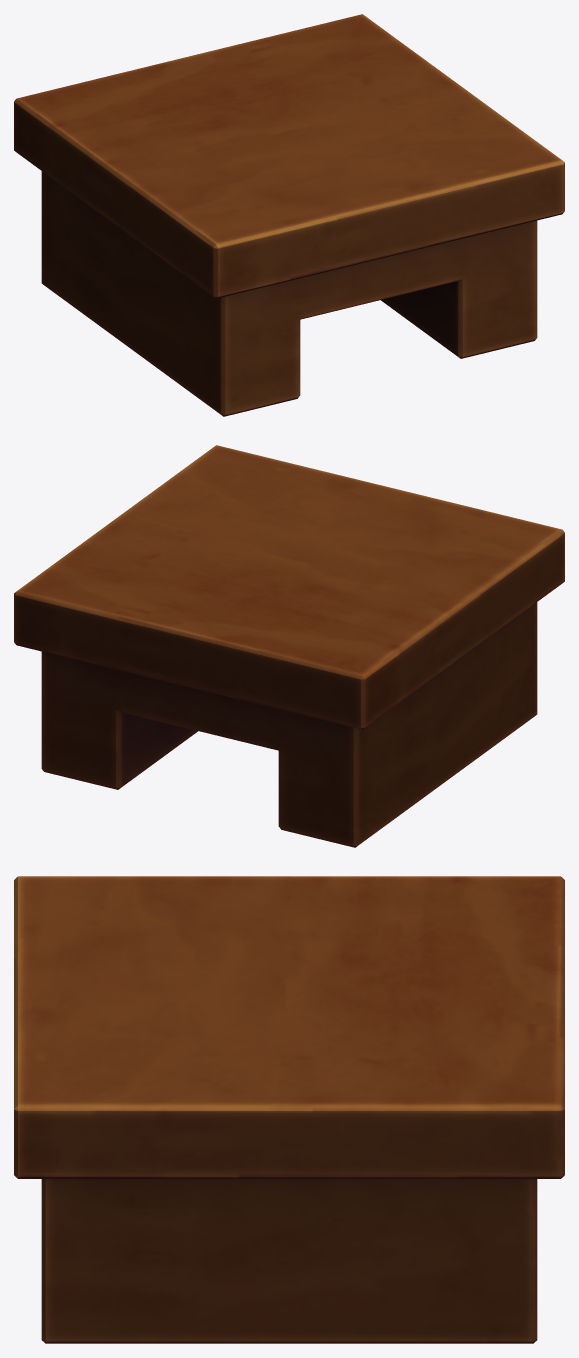
Rendered from PlateTable.obj.
3 renders of one model, top to bottom at view 1: azimuth 30°, elevation 25°; view 2: azimuth 150°, elevation 25°; view 3: azimuth 270°, elevation 25°, orthographic. The views are drawn at different scales.
Parts seen in each view (by area): view 1: Kitchen_Cabin; view 2: Kitchen_Cabin; view 3: Kitchen_Cabin.
Part boxes in pixels (box(x1,y1,x2,y2)): Kitchen_Cabin: box(14, 14, 564, 416); Kitchen_Cabin: box(14, 445, 564, 847); Kitchen_Cabin: box(14, 876, 564, 1343).
Bounding box in the file's own units: 2 × 1 × 2.
Materials: 1 (1 with a texture image).
